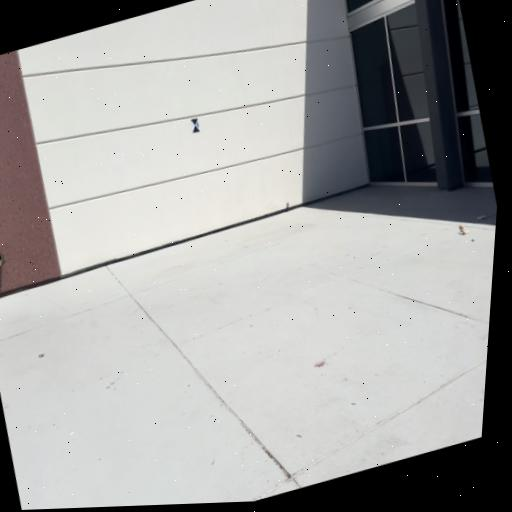target4: (191, 118, 200, 133)
